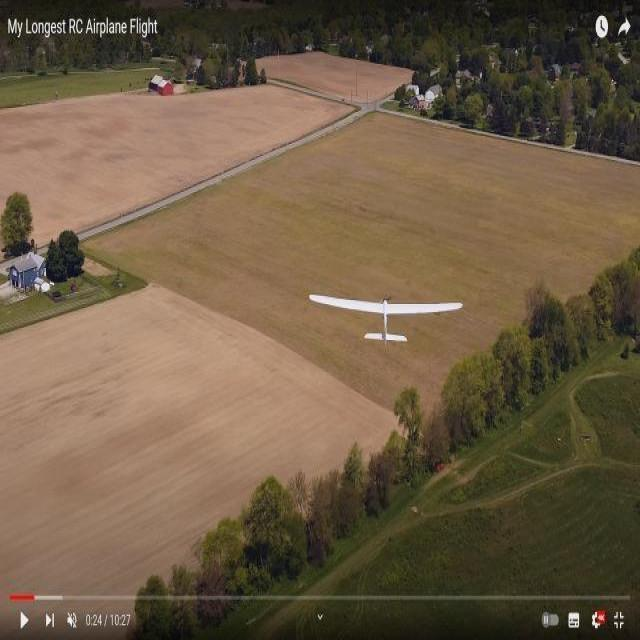Airplane: (306, 286, 466, 349)
